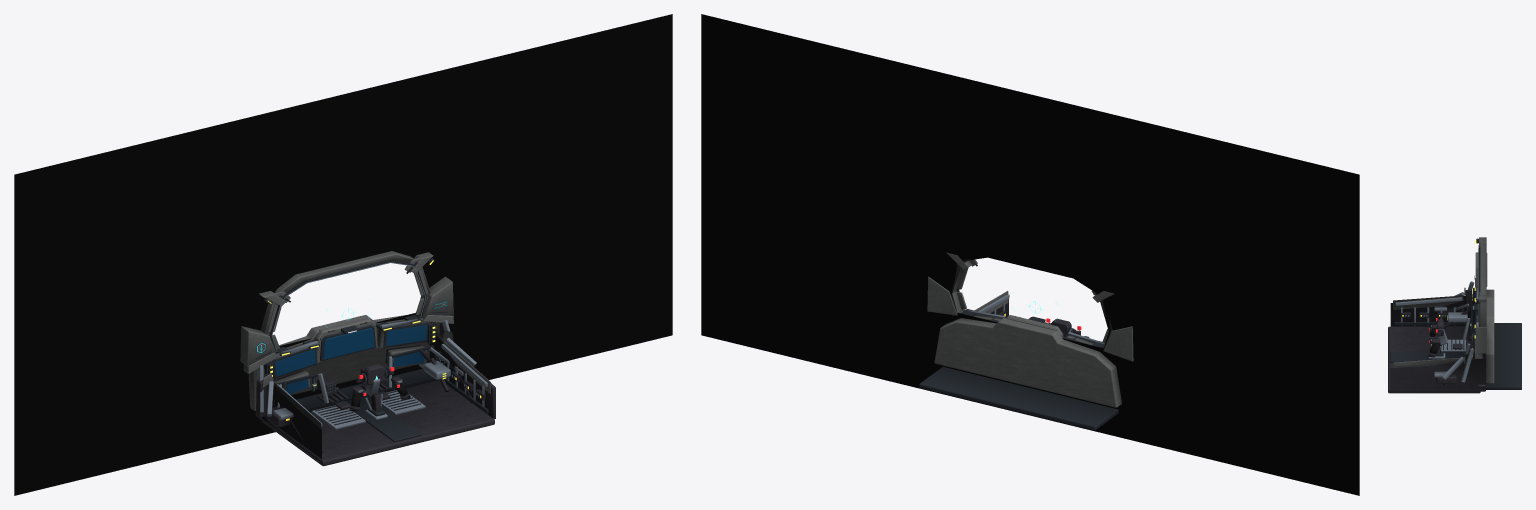
File: cockpit.glb
3 views of the same model, side by side, from view 1: azimuth 30°, elevation 25°; view 2: azimuth 150°, elevation 25°; view 3: azimuth 270°, elevation 25° (orthographic). The views are drawn at different scales.
Visible parts, largest first — view 1: static_canopy_plate, static_Worn blue graphite |, static_Frame | scratched gu, static_Soft black rubber, static_Edge steel, static_Cobalt painted armor, static_Display deep glass; view 2: static_canopy_plate, static_Frame | scratched gu, static_Soft black rubber, static_Cobalt painted armor; view 3: static_Worn blue graphite |, static_Soft black rubber, static_Edge steel, static_Frame | scratched gu, static_Cobalt painted armor.
Boxes of the visible parts, x1=… form: static_canopy_plate: x1=14, y1=14, x2=672, y2=495; static_Worn blue graphite |: x1=255, y1=317, x2=495, y2=466; static_Frame | scratched gu: x1=243, y1=251, x2=453, y2=395; static_Soft black rubber: x1=255, y1=257, x2=488, y2=453; static_Edge steel: x1=259, y1=262, x2=487, y2=429; static_Cobalt painted armor: x1=240, y1=276, x2=490, y2=428; static_Display deep glass: x1=275, y1=325, x2=426, y2=393; static_canopy_plate: x1=701, y1=14, x2=1359, y2=495; static_Frame | scratched gu: x1=934, y1=252, x2=1121, y2=407; static_Soft black rubber: x1=919, y1=264, x2=1118, y2=430; static_Cobalt painted armor: x1=927, y1=276, x2=1133, y2=361; static_Worn blue graphite |: x1=1388, y1=290, x2=1485, y2=393; static_Soft black rubber: x1=1390, y1=238, x2=1521, y2=389; static_Edge steel: x1=1395, y1=248, x2=1478, y2=382; static_Frame | scratched gu: x1=1475, y1=237, x2=1494, y2=383; static_Cobalt painted armor: x1=1393, y1=252, x2=1487, y2=386.
Bounding box in the file's own units: 28 × 13.06 × 6.57.
25 materials, 6 textured.
